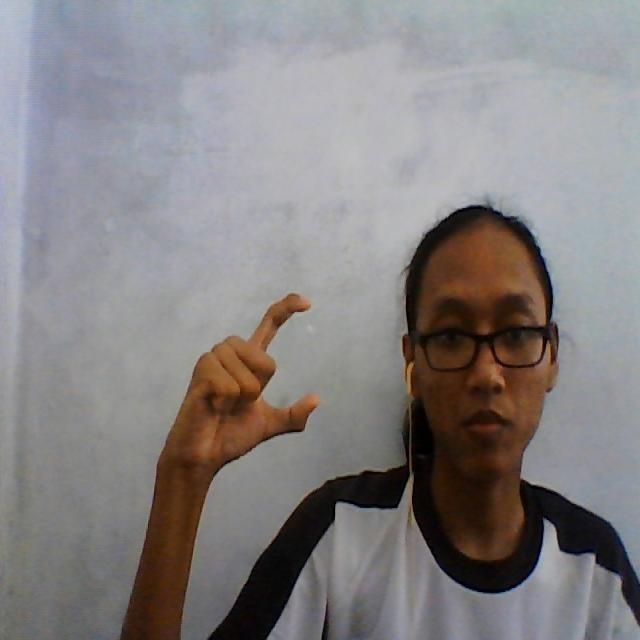C: (216, 288, 332, 450)
